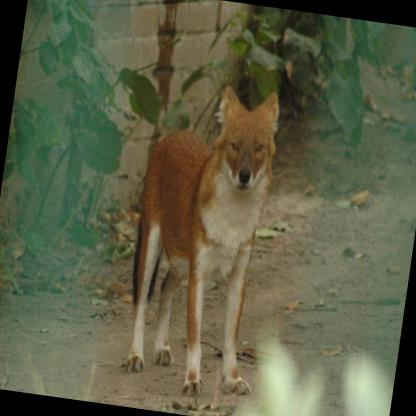dhole: (114, 74, 290, 398)
